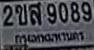0: (58, 1, 67, 22)
2: (3, 4, 12, 25)
8: (70, 1, 79, 22)
9: (46, 2, 56, 23), (81, 1, 91, 21)
A02: (15, 4, 26, 24)
A40: (28, 2, 41, 24)
BKK: (10, 29, 86, 45)
